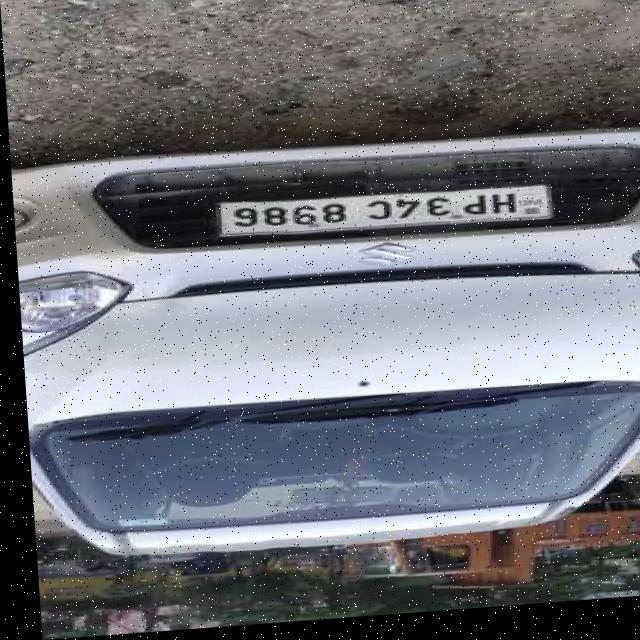plate: (208, 186, 552, 247)
